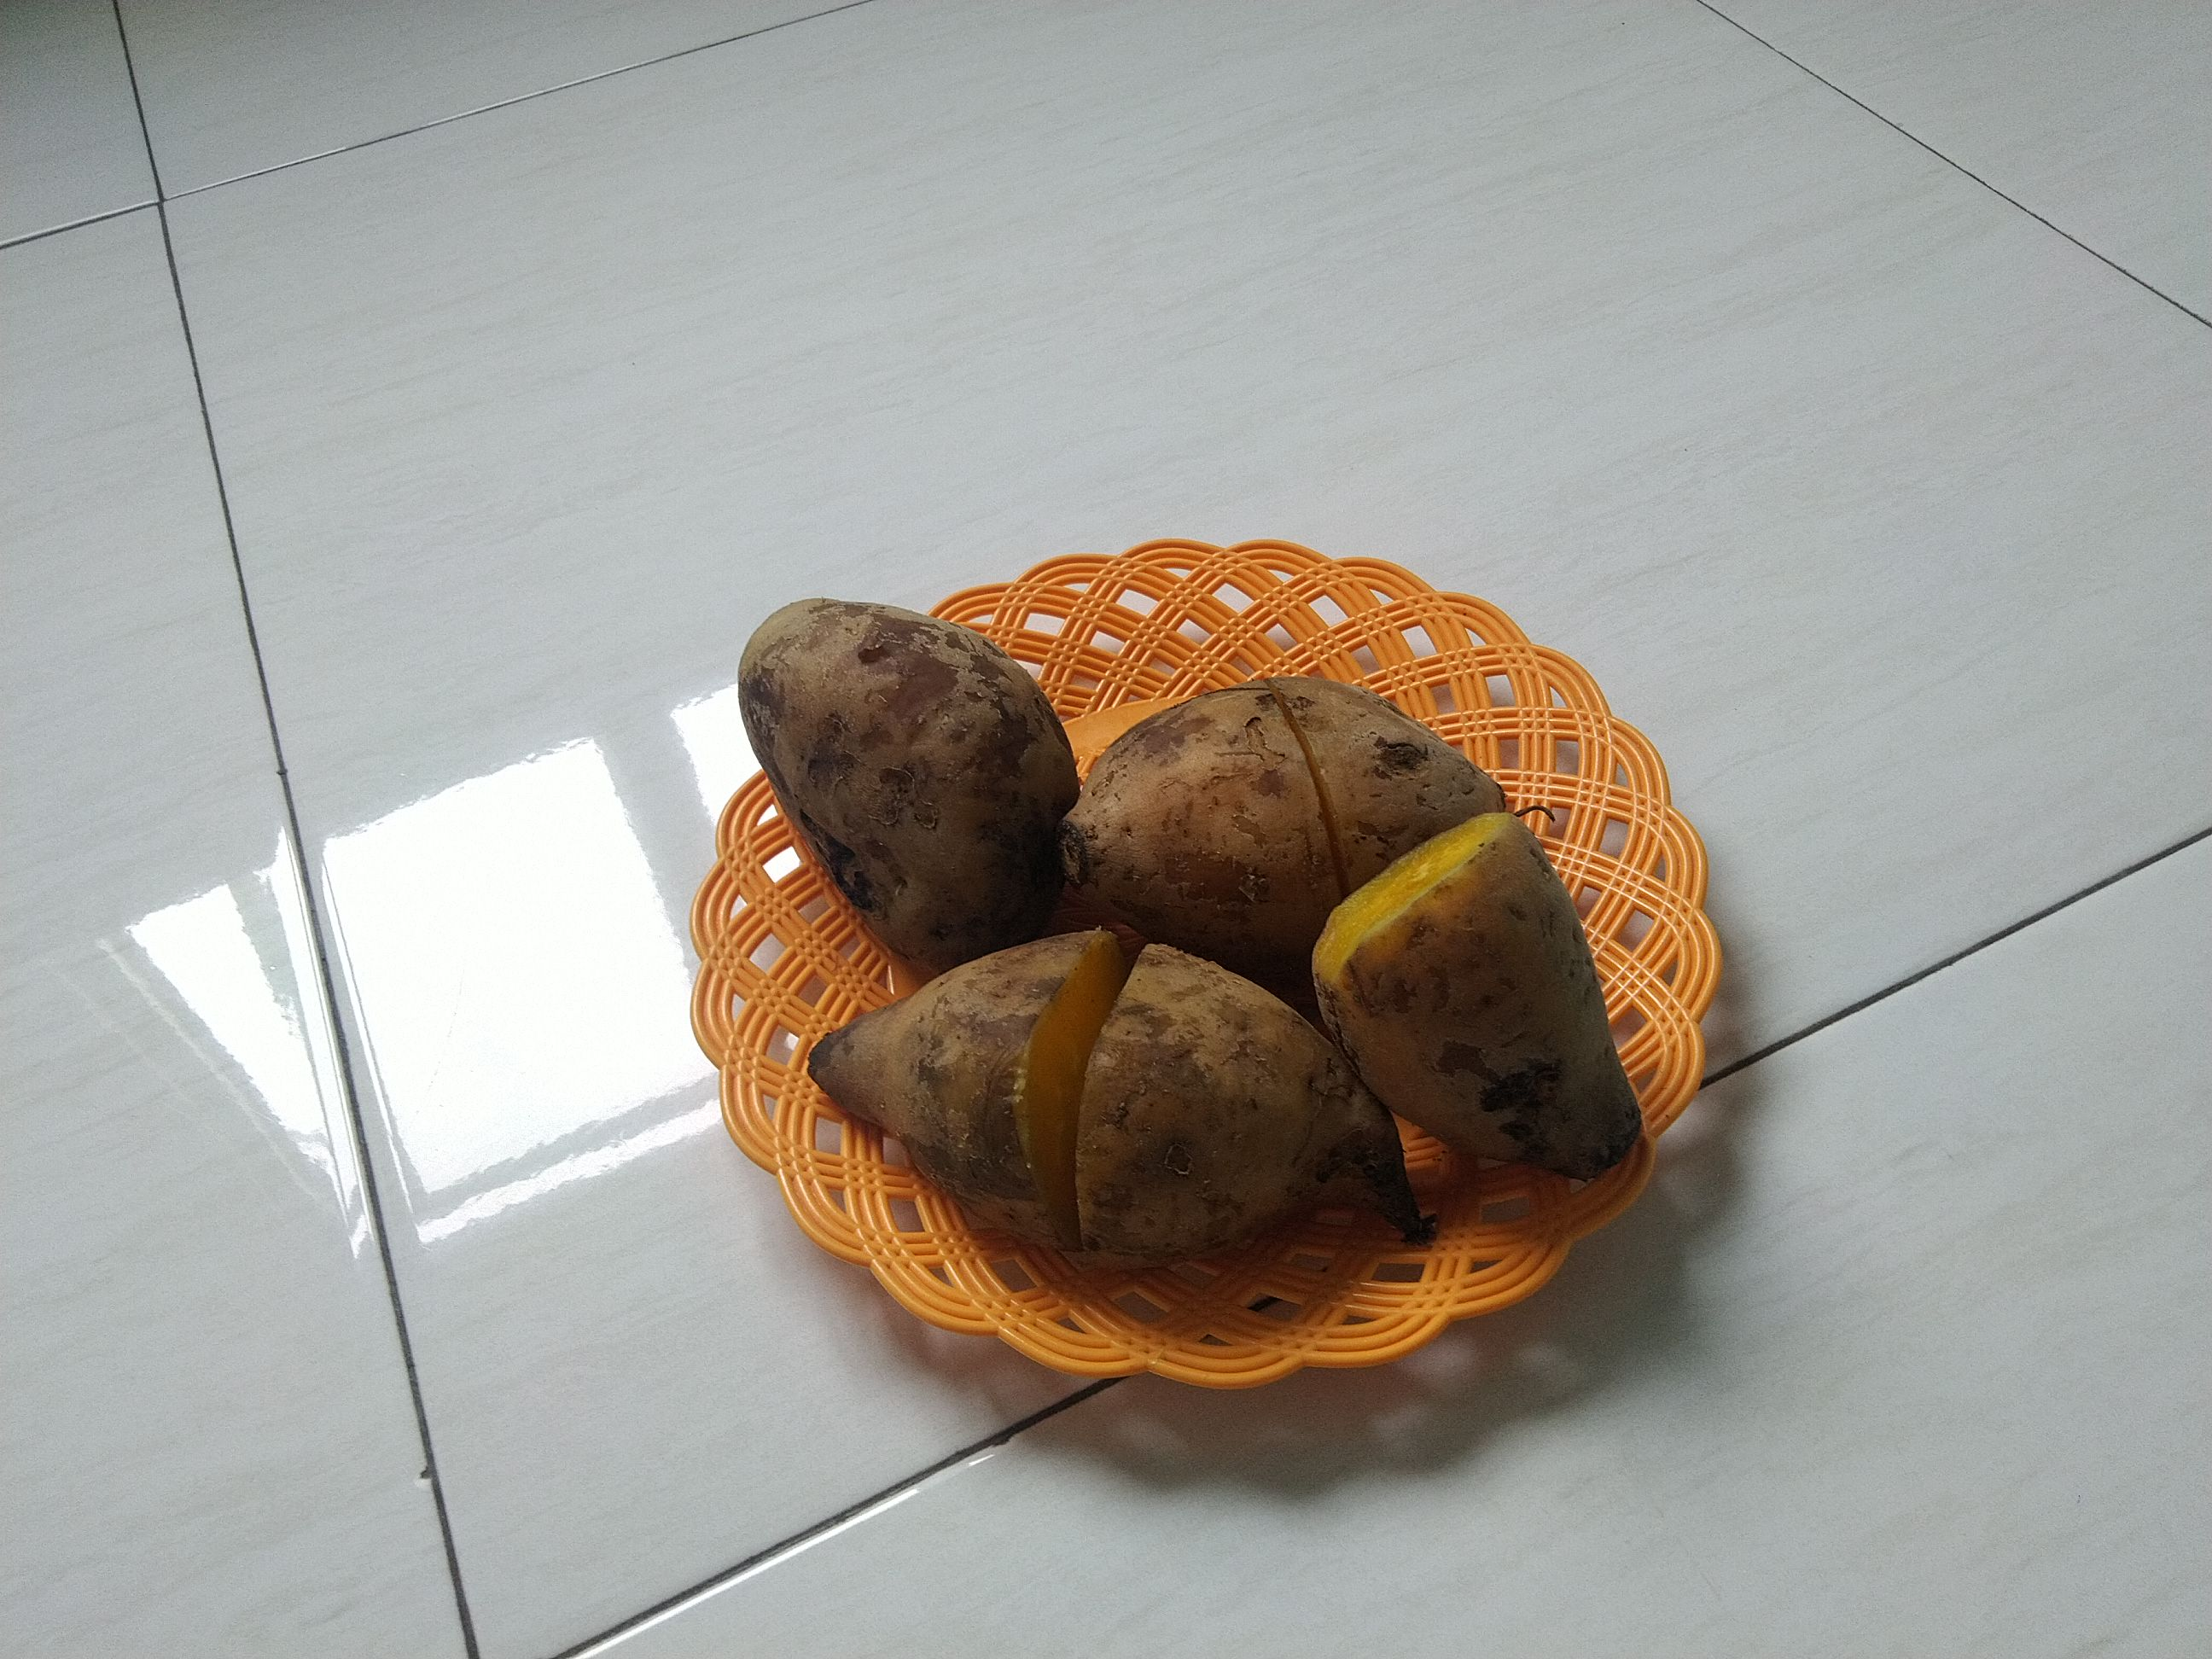ubi kuning: (791, 904, 1439, 1281), (1294, 796, 1683, 1201), (730, 579, 1083, 958), (1049, 664, 1547, 929)
